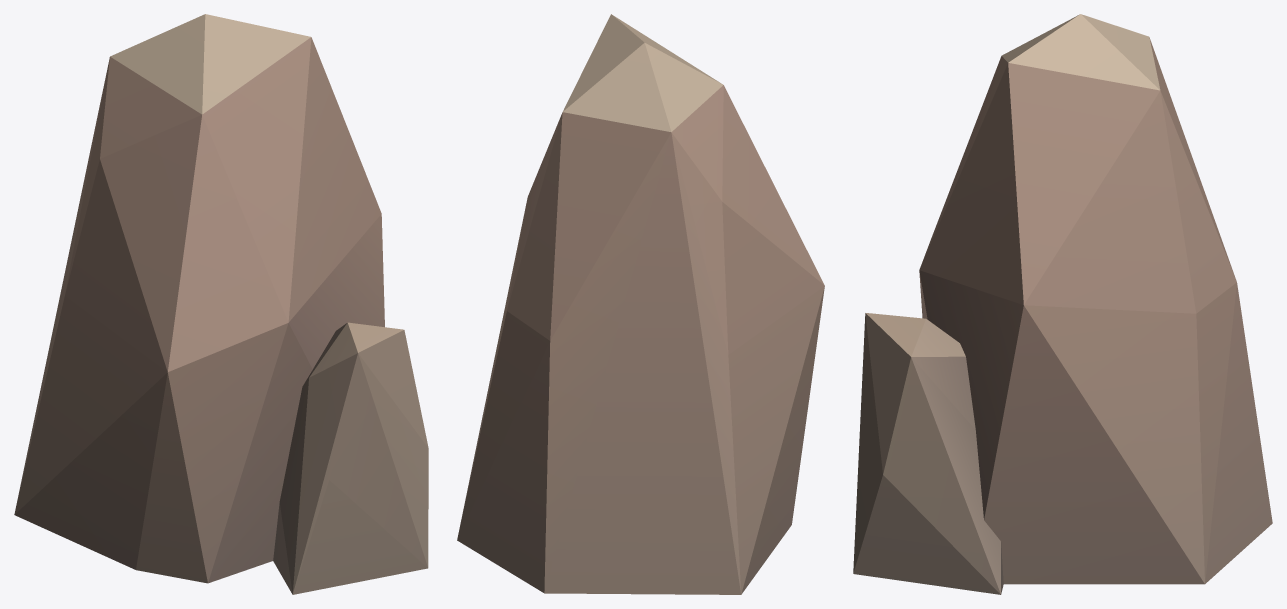
The model's file is rock_4.glb.
The picture shows the model from 3 angles, left to right: view 1: azimuth 30°, elevation 25°; view 2: azimuth 150°, elevation 25°; view 3: azimuth 270°, elevation 25°; orthographic projection. The views are drawn at different scales.
Size of the model in its own units: 0.813 by 1.3 by 0.9781.
